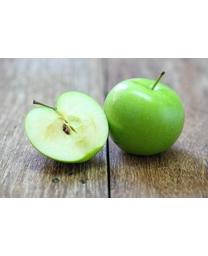apple: (103, 72, 185, 156), (23, 89, 108, 163)
